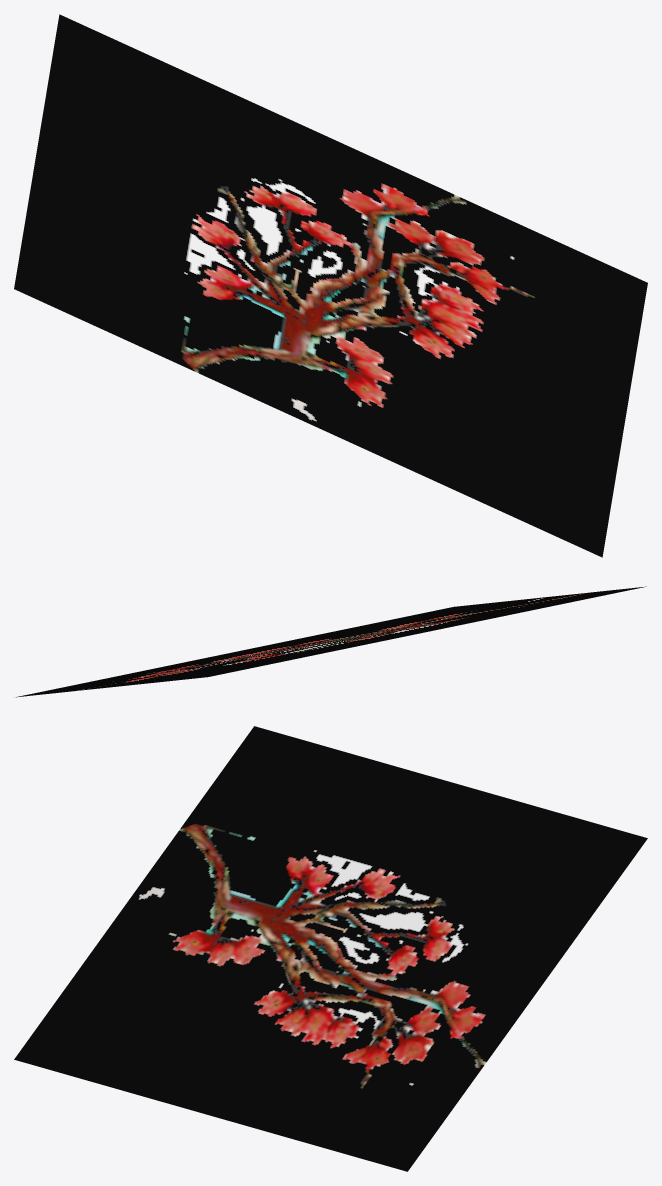
Rendered from H1_RPl_Cherry1.gltf.
The picture shows the model from 3 angles, top to bottom: view 1: azimuth 30°, elevation 25°; view 2: azimuth 150°, elevation 25°; view 3: azimuth 270°, elevation 25°; orthographic projection. The views are drawn at different scales.
Visible parts, largest first — view 1: H1_RPl_Cherry1; view 2: H1_RPl_Cherry1; view 3: H1_RPl_Cherry1.
Part boxes in pixels (x1,y1,x2,y2): H1_RPl_Cherry1: (14,14,647,557); H1_RPl_Cherry1: (16,586,645,697); H1_RPl_Cherry1: (14,726,647,1171).
Bounding box in the file's own units: 1.44 × 0.4669 × 1.47.
Materials: 1 (1 with a texture image).
